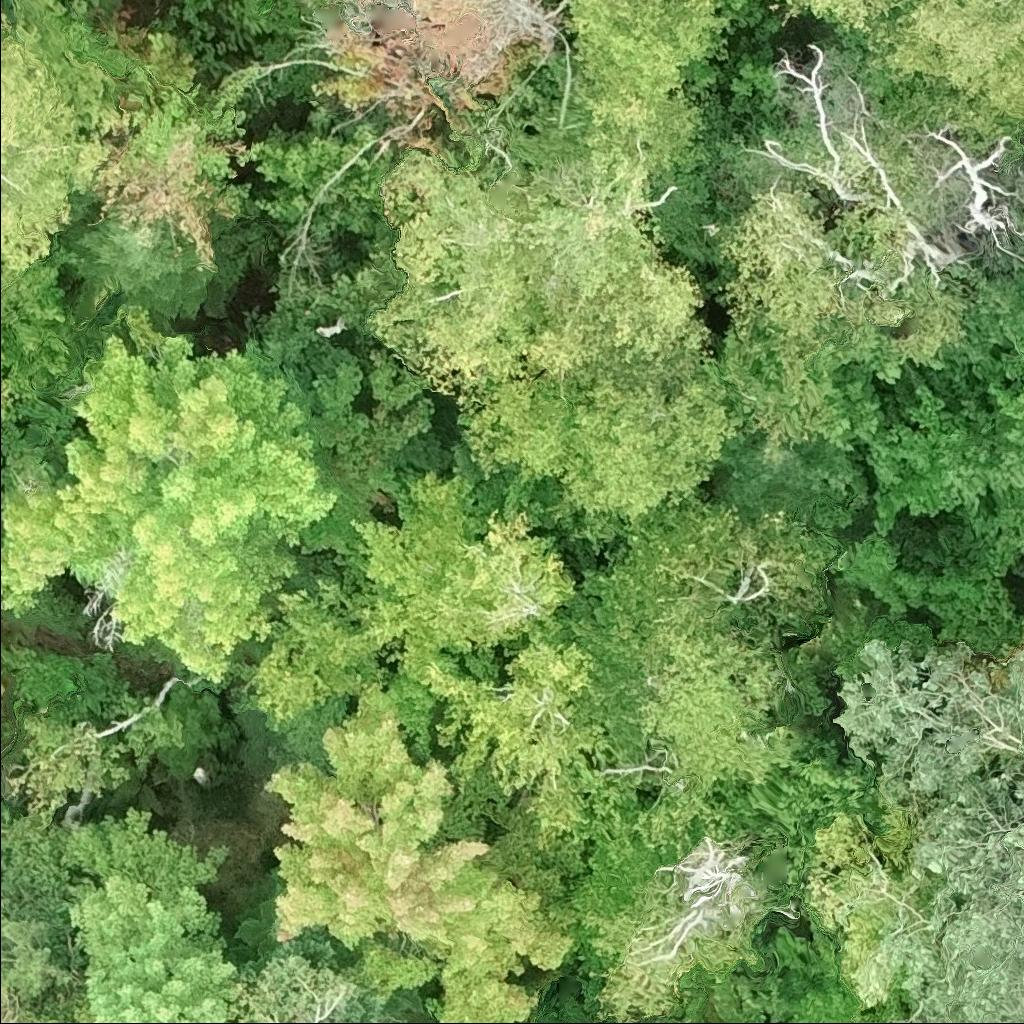crown: (0, 335, 338, 687), (270, 668, 571, 1023), (371, 128, 710, 414), (581, 502, 832, 786), (563, 777, 801, 1023), (412, 611, 629, 851), (461, 348, 729, 513), (358, 474, 573, 672), (93, 33, 262, 273), (716, 192, 964, 354), (70, 807, 246, 1023), (0, 19, 134, 271), (891, 772, 1023, 1023), (314, 0, 523, 155), (871, 390, 1023, 582), (837, 639, 1023, 794), (530, 590, 656, 774), (9, 702, 180, 820), (626, 835, 760, 977), (247, 584, 379, 727), (882, 0, 1023, 129), (254, 126, 391, 239), (74, 215, 212, 320), (251, 965, 400, 1023), (837, 530, 928, 623), (800, 0, 919, 40), (0, 347, 9, 424), (432, 1002, 447, 1023), (26, 1015, 50, 1023), (0, 5, 5, 14), (477, 1021, 494, 1023)
